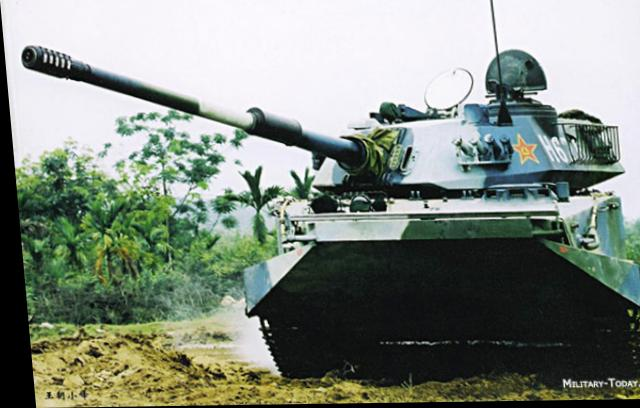tank: (219, 52, 638, 379)
